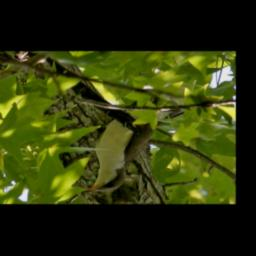Cuckoo: (80, 96, 185, 195)
